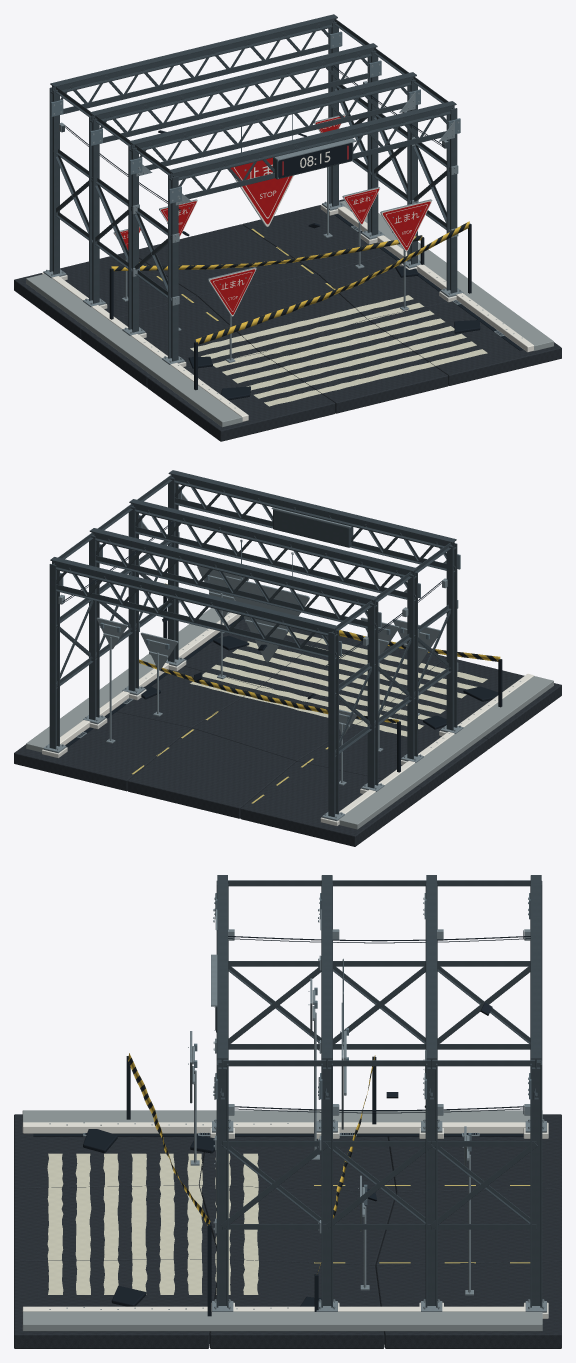
The model's file is kagerou-daze-v7-1.glb.
The picture shows the model from 3 angles, top to bottom: view 1: azimuth 30°, elevation 25°; view 2: azimuth 150°, elevation 25°; view 3: azimuth 270°, elevation 25°; orthographic projection. The views are drawn at different scales.
Visible parts, largest first — view 1: Hero_Asphalt, Hero_Truss, Hero_Kerbs, Hero_Zebra, Hero_Hanging_Stop, Hero_Frozen_Time, Hero_Barrier_Tape_A, Hero_Joint_Plates, Hero_Side_Stop_1, Hero_Barrier_Tape_B, Hero_Side_Stop_0, Hero_Fractures (+6 smaller); view 2: Hero_Truss, Hero_Asphalt, Hero_Kerbs, Hero_Zebra, Hero_Hanging_Stop, Hero_Frozen_Time, Hero_Fractures, Hero_Barrier_Tape_B, Hero_Stop_Posts, Hero_Foot_Plates, Hero_Side_Stop_3, Hero_Side_Stop_0 (+6 smaller); view 3: Hero_Asphalt, Hero_Truss, Hero_Kerbs, Hero_Zebra, Hero_Service_Cables, Hero_Fractures, Hero_Drains, Hero_Stop_Posts, Hero_Bollards, Hero_Foot_Plates, Hero_Barrier_Tape_A, Hero_Junction_Boxes.
Boxes of the visible parts, x1,y1,x2,y2 form: Hero_Asphalt: (14,199,561,441); Hero_Truss: (49,14,457,361); Hero_Kerbs: (26,200,553,427); Hero_Zebra: (190,295,487,406); Hero_Hanging_Stop: (230,157,293,227); Hero_Frozen_Time: (273,138,356,179); Hero_Barrier_Tape_A: (195,221,469,344); Hero_Joint_Plates: (50,31,460,203); Hero_Side_Stop_1: (380,199,432,251); Hero_Barrier_Tape_B: (111,235,422,271); Hero_Side_Stop_0: (208,267,256,316); Hero_Fractures: (188,266,480,400); Hero_Truss: (49,470,457,817); Hero_Asphalt: (14,618,561,846); Hero_Kerbs: (26,608,553,829); Hero_Zebra: (190,632,487,736); Hero_Hanging_Stop: (226,576,309,662); Hero_Frozen_Time: (271,507,353,547); Hero_Fractures: (141,635,498,729); Hero_Barrier_Tape_B: (139,659,398,723); Hero_Stop_Posts: (106,593,419,785); Hero_Foot_Plates: (43,658,463,821); Hero_Side_Stop_3: (140,632,178,670); Hero_Side_Stop_0: (393,619,440,666); Hero_Asphalt: (14,1114,561,1348); Hero_Truss: (216,875,542,1307); Hero_Kerbs: (22,1110,542,1331); Hero_Zebra: (47,1153,258,1294); Hero_Service_Cables: (228,936,530,1113); Hero_Fractures: (83,1129,321,1306); Hero_Drains: (33,1132,523,1136); Hero_Stop_Posts: (190,1012,473,1295); Hero_Bollards: (126,1056,376,1316); Hero_Foot_Plates: (212,1121,546,1312); Hero_Barrier_Tape_A: (128,1053,210,1225); Hero_Junction_Boxes: (228,929,530,1115).
Bounding box in the file's own units: 19.97 × 11.5 × 20.97.
Materials: 13 (6 with a texture image).
